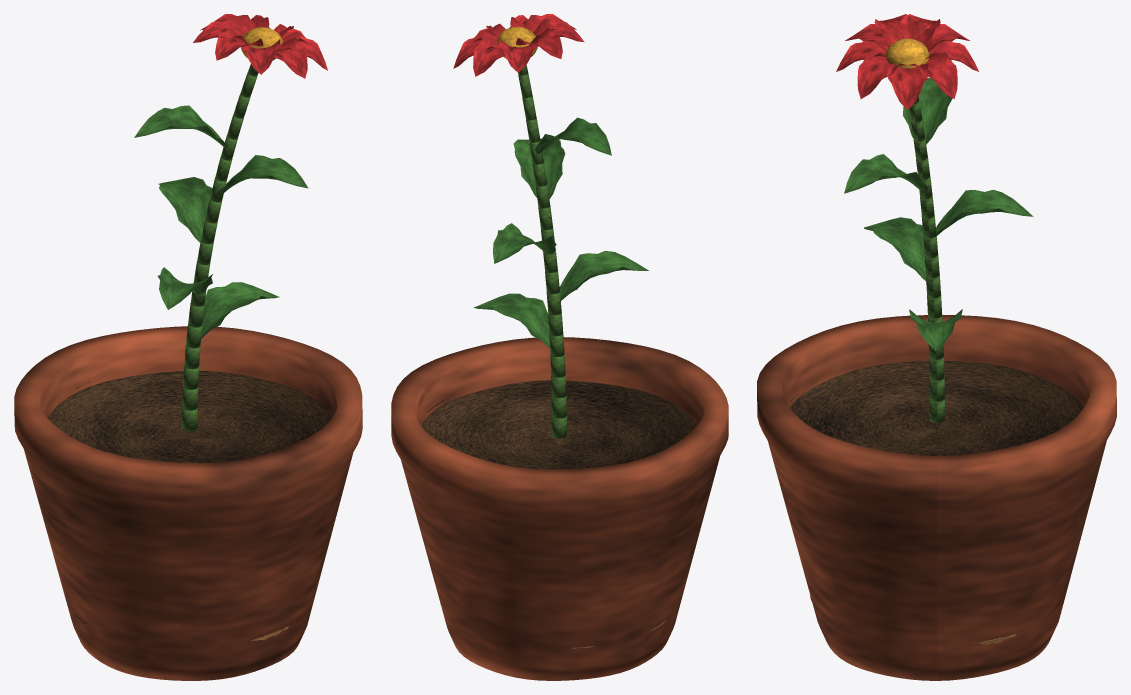
Rendered from flower_02_fading.glb.
3 renders of one model, left to right at view 1: azimuth 30°, elevation 25°; view 2: azimuth 150°, elevation 25°; view 3: azimuth 270°, elevation 25°, orthographic. The views are drawn at different scales.
Visible parts, largest first — view 1: clay, soil, leaf, stem, petal, pollen; view 2: clay, soil, leaf, stem, petal, pollen; view 3: clay, soil, leaf, petal, stem, pollen.
Part boxes in pixels (x1,y1,x2,y2): clay: (14, 326, 362, 680); soil: (47, 371, 331, 462); leaf: (134, 105, 308, 339); stem: (182, 64, 258, 431); petal: (193, 14, 327, 78); pollen: (241, 27, 283, 60); clay: (391, 337, 728, 680); soil: (421, 380, 696, 469); leaf: (473, 117, 648, 348); stem: (518, 65, 566, 438); petal: (453, 14, 584, 76); pollen: (497, 26, 537, 58); clay: (757, 315, 1116, 680); soil: (790, 361, 1083, 455); leaf: (844, 78, 1033, 350); petal: (836, 14, 978, 109); stem: (909, 96, 944, 422); pollen: (886, 38, 929, 68).
Size of the model in its own units: 0.2421 by 0.4643 by 0.2422.
7 materials, 7 textured.
